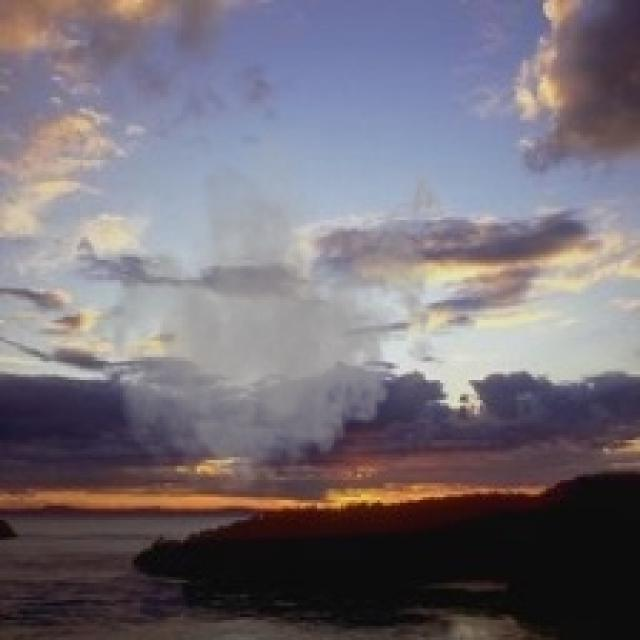smoke: (86, 106, 457, 506)
